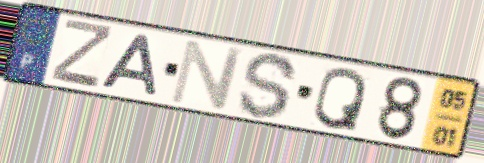8: (375, 75, 425, 143)
A: (97, 31, 160, 99)
N: (167, 38, 247, 112)
Q: (310, 65, 370, 134)
S: (235, 50, 300, 122)
Z: (48, 17, 116, 92)
